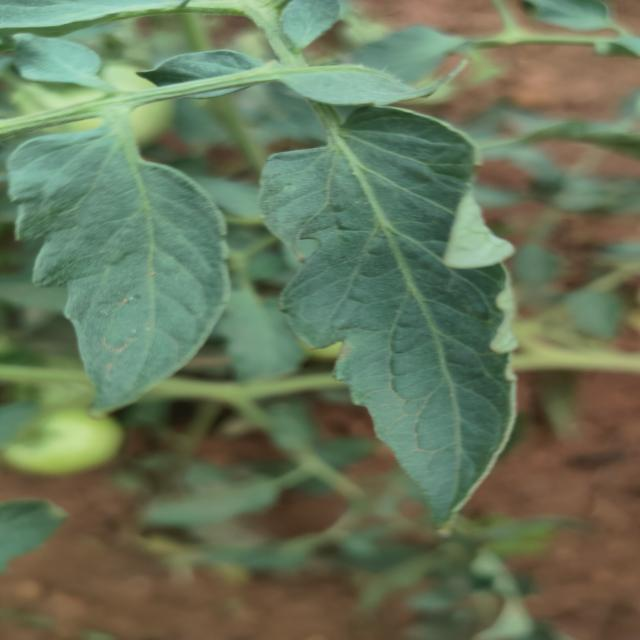tomato_healthy: (255, 104, 519, 533), (11, 122, 230, 416)
